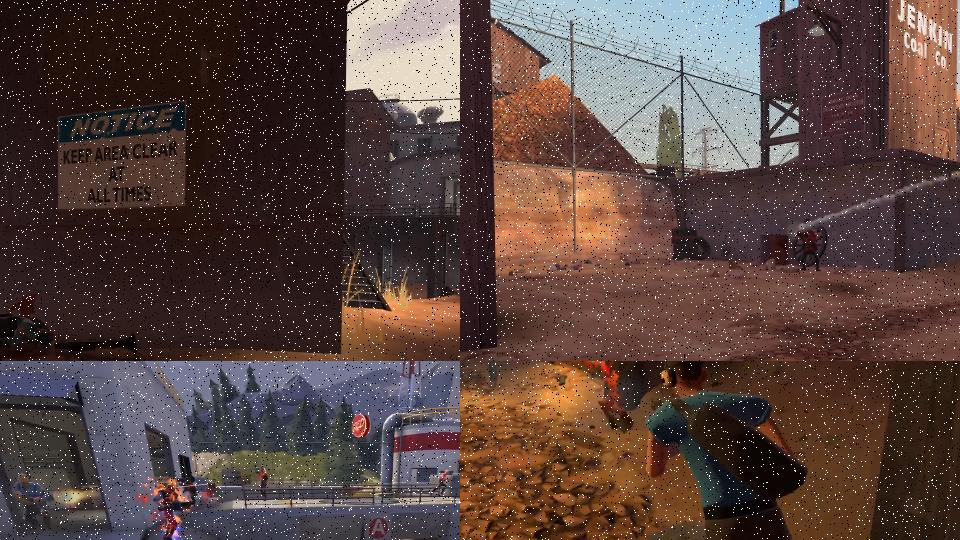Enemy: (639, 361, 827, 540), (5, 472, 61, 534), (151, 484, 195, 540), (0, 312, 55, 356), (476, 361, 555, 389), (796, 220, 822, 272), (250, 463, 272, 503), (174, 474, 199, 509), (429, 469, 453, 500)
